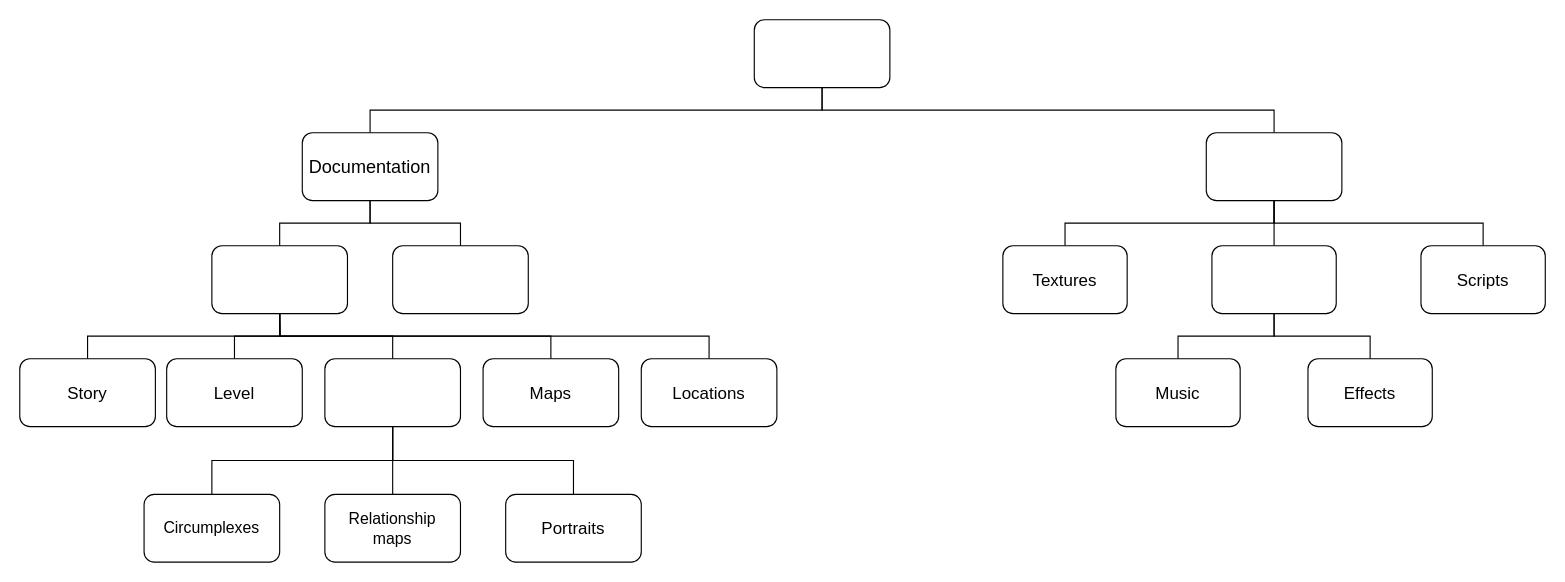
Image size: 1565x582. Some labels were removed from this diagram. The shapes that lost their labels are listed below. From the top down, each one's box as (x1, y1, x2, y2) in pixels, then its label:
(753, 19, 890, 88): Root
(1205, 132, 1342, 201): Resources
(211, 245, 347, 314): Pictures
(392, 245, 528, 314): Export
(1211, 245, 1336, 314): Sounds
(324, 358, 460, 427): Characters
